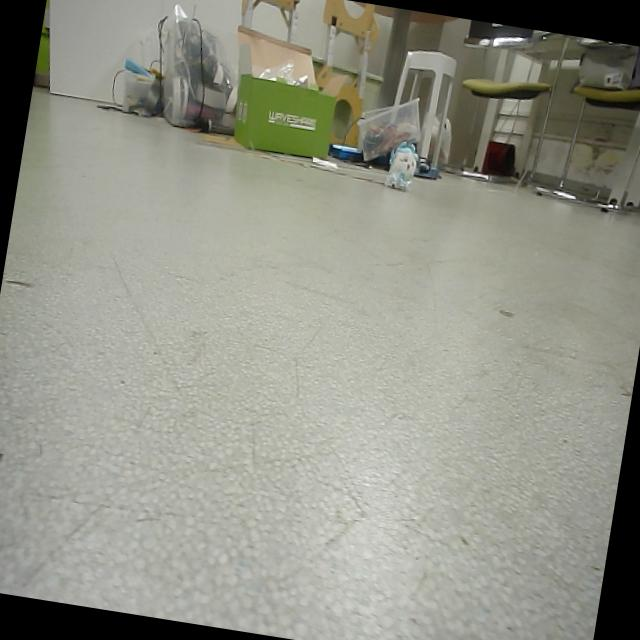xiaoba: (384, 136, 423, 192)
